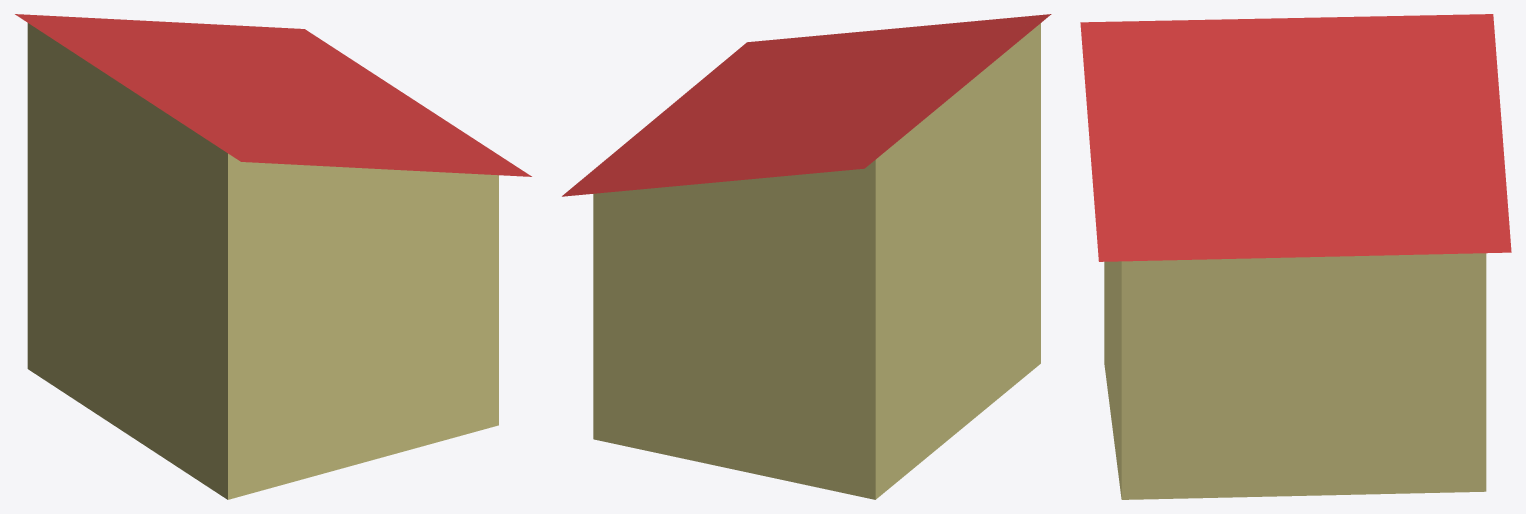
3 views of the same model, side by side, from view 1: azimuth 30°, elevation 25°; view 2: azimuth 150°, elevation 25°; view 3: azimuth 270°, elevation 25° (orthographic).
Bounding box in the file's own units: 7.57 × 8.96 × 7.87.
